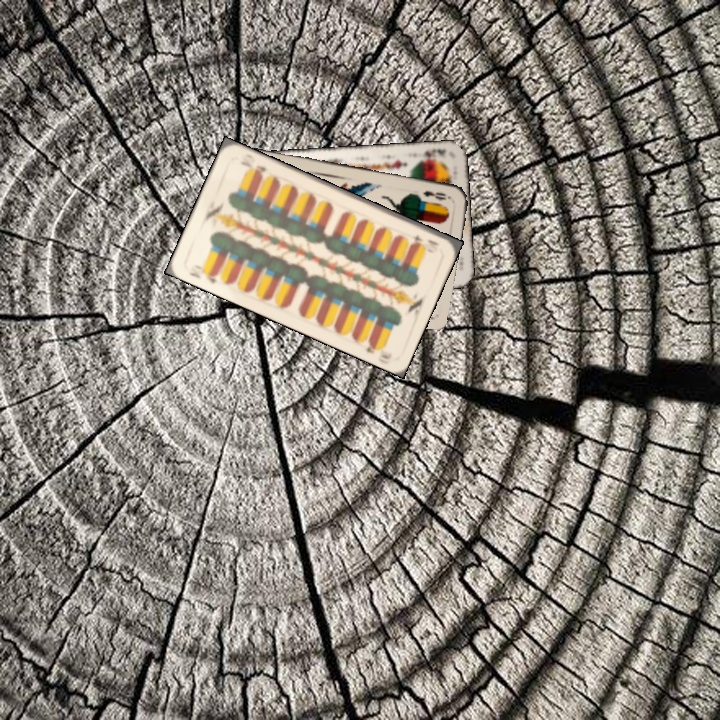E10: (404, 230, 443, 251), (185, 264, 220, 287)
EO: (419, 186, 454, 203)
SK: (413, 145, 449, 165)
